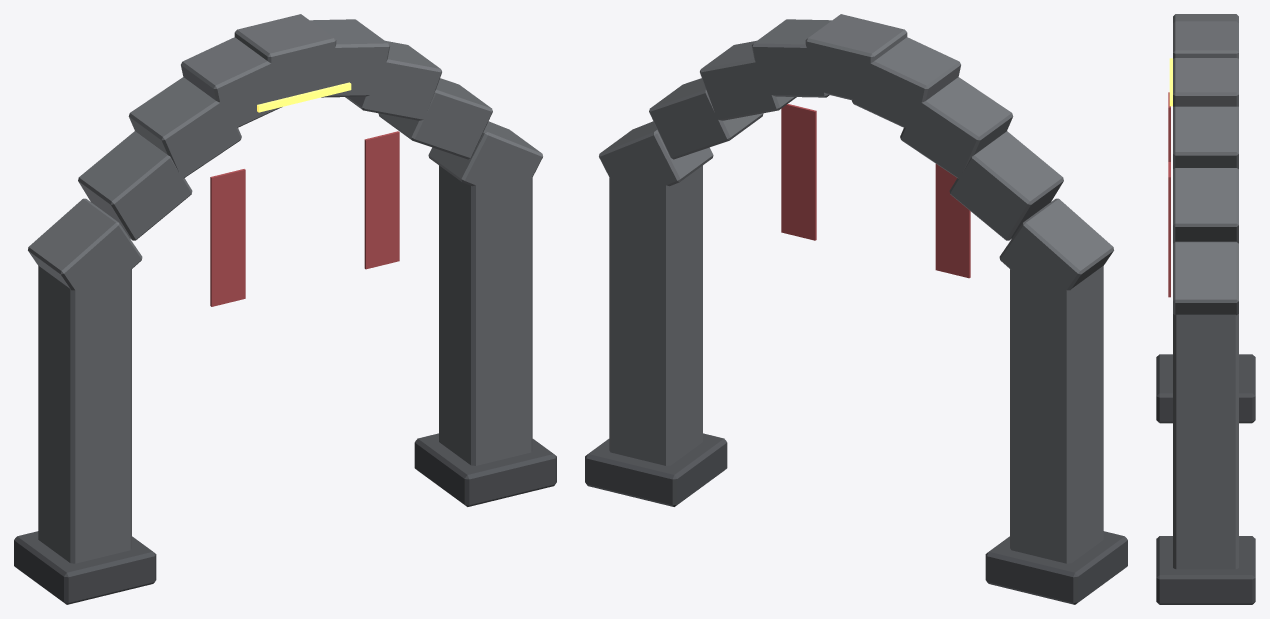
File: heatsinkArch.9a90ebd4.glb
3 views of the same model, side by side, from view 1: azimuth 30°, elevation 25°; view 2: azimuth 150°, elevation 25°; view 3: azimuth 270°, elevation 25° (orthographic). The views are drawn at different scales.
Parts seen in each view (by area): view 1: arch; view 2: arch; view 3: arch.
Part boxes in pixels (box(x1,y1,x2,y2)): arch: box(14, 14, 556, 604); arch: box(585, 14, 1127, 604); arch: box(1156, 14, 1255, 604).
Size of the model in its own units: 32 by 30.6 by 6.
